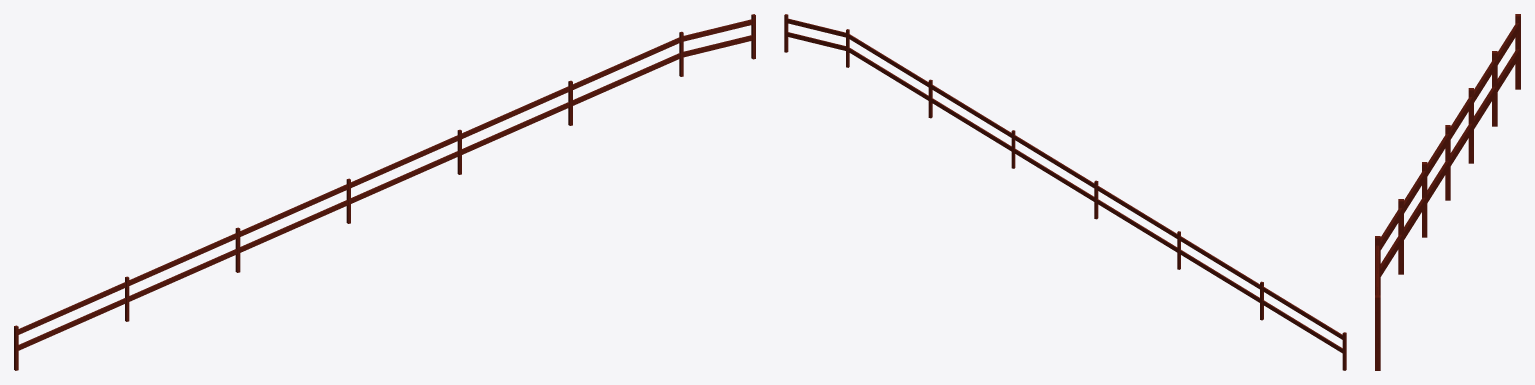
The model's file is Geländer.fbx.
3 renders of one model, left to right at view 1: azimuth 30°, elevation 25°; view 2: azimuth 150°, elevation 25°; view 3: azimuth 270°, elevation 25°, orthographic. The views are drawn at different scales.
Visible parts, largest first — view 1: GeländerHandlauf1, GeländerPfosten1; view 2: GeländerHandlauf1, GeländerPfosten1; view 3: GeländerHandlauf1, GeländerPfosten1.
Boxes of the visible parts, x1=… form: GeländerHandlauf1: x1=18, y1=19, x2=752, y2=350; GeländerPfosten1: x1=14, y1=14, x2=755, y2=370; GeländerHandlauf1: x1=787, y1=18, x2=1342, y2=353; GeländerPfosten1: x1=784, y1=14, x2=1346, y2=370; GeländerHandlauf1: x1=1376, y1=23, x2=1519, y2=295; GeländerPfosten1: x1=1375, y1=14, x2=1520, y2=370.
Bounding box in the file's own units: 19.36 × 5.72 × 2.08.
Materials: 1 (1 with a texture image).
